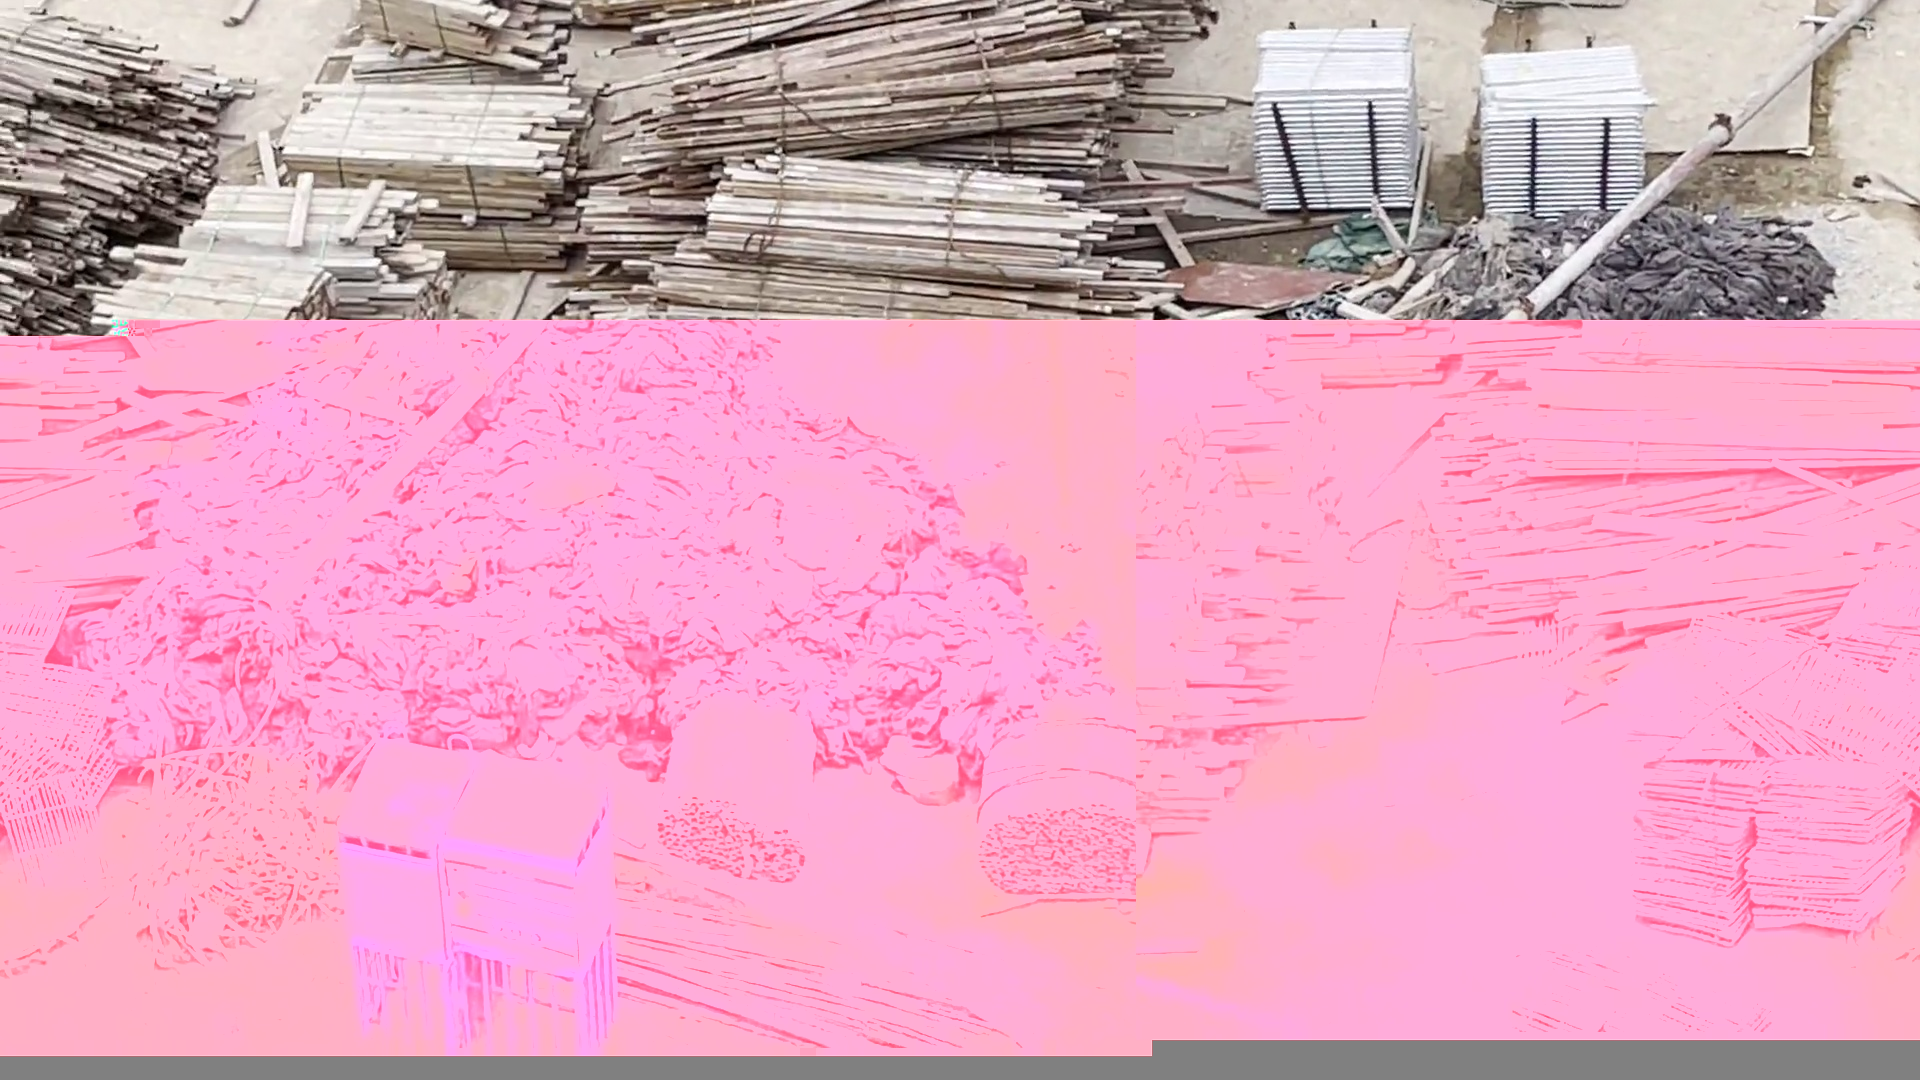scaffold: (1250, 26, 1422, 216), (1477, 41, 1643, 215)
wood: (78, 1, 608, 665), (554, 1, 1189, 531), (3, 36, 202, 440)
